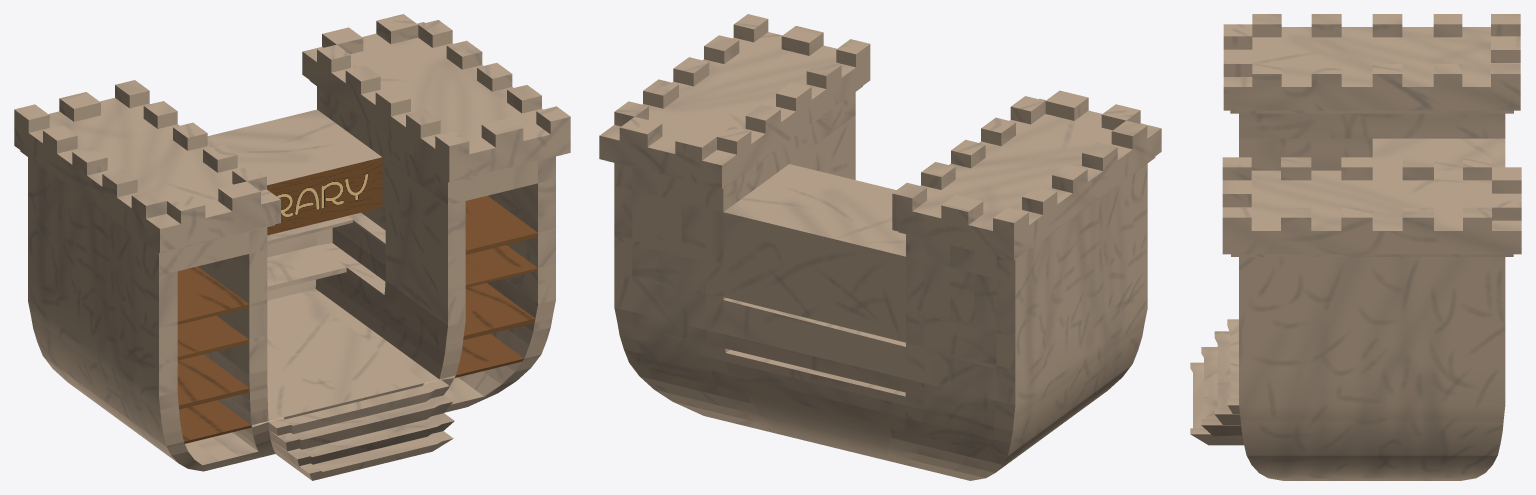
File: library.fbx
3 views of the same model, side by side, from view 1: azimuth 30°, elevation 25°; view 2: azimuth 150°, elevation 25°; view 3: azimuth 270°, elevation 25° (orthographic).
Visible parts, largest first — view 1: pCube1; view 2: pCube1; view 3: pCube1.
Boxes of the visible parts, box(x1,y1,x2,y2) form: pCube1: box(14, 14, 570, 480); pCube1: box(599, 14, 1161, 480); pCube1: box(1190, 14, 1521, 480).
Size of the model in its own units: 32.06 by 22.01 by 22.06.
